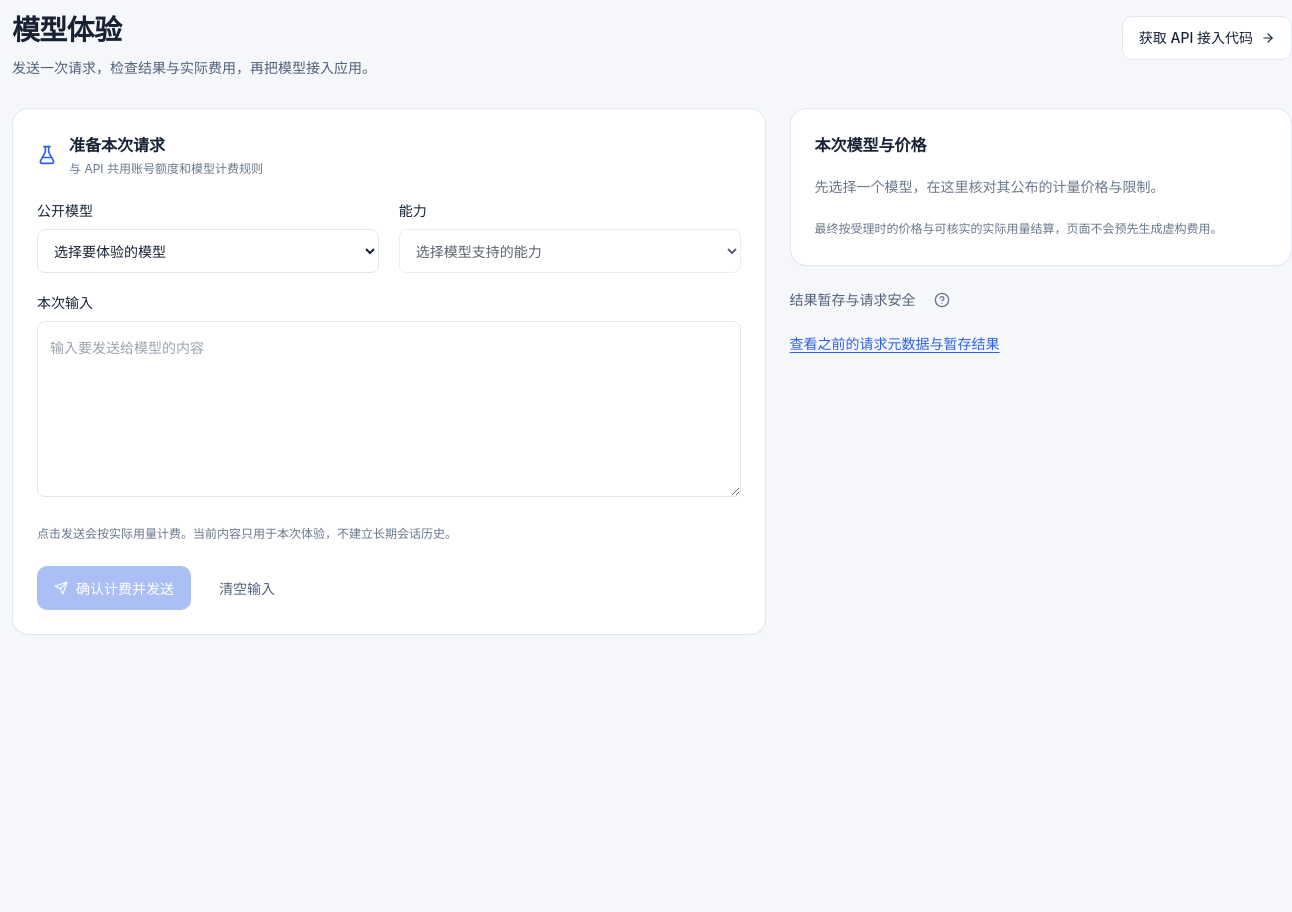
sends the speech text for the selected model
Select "public-model" in the dropdown labelled "公开模型" at x=208, y=251, box [37, 229, 379, 273]
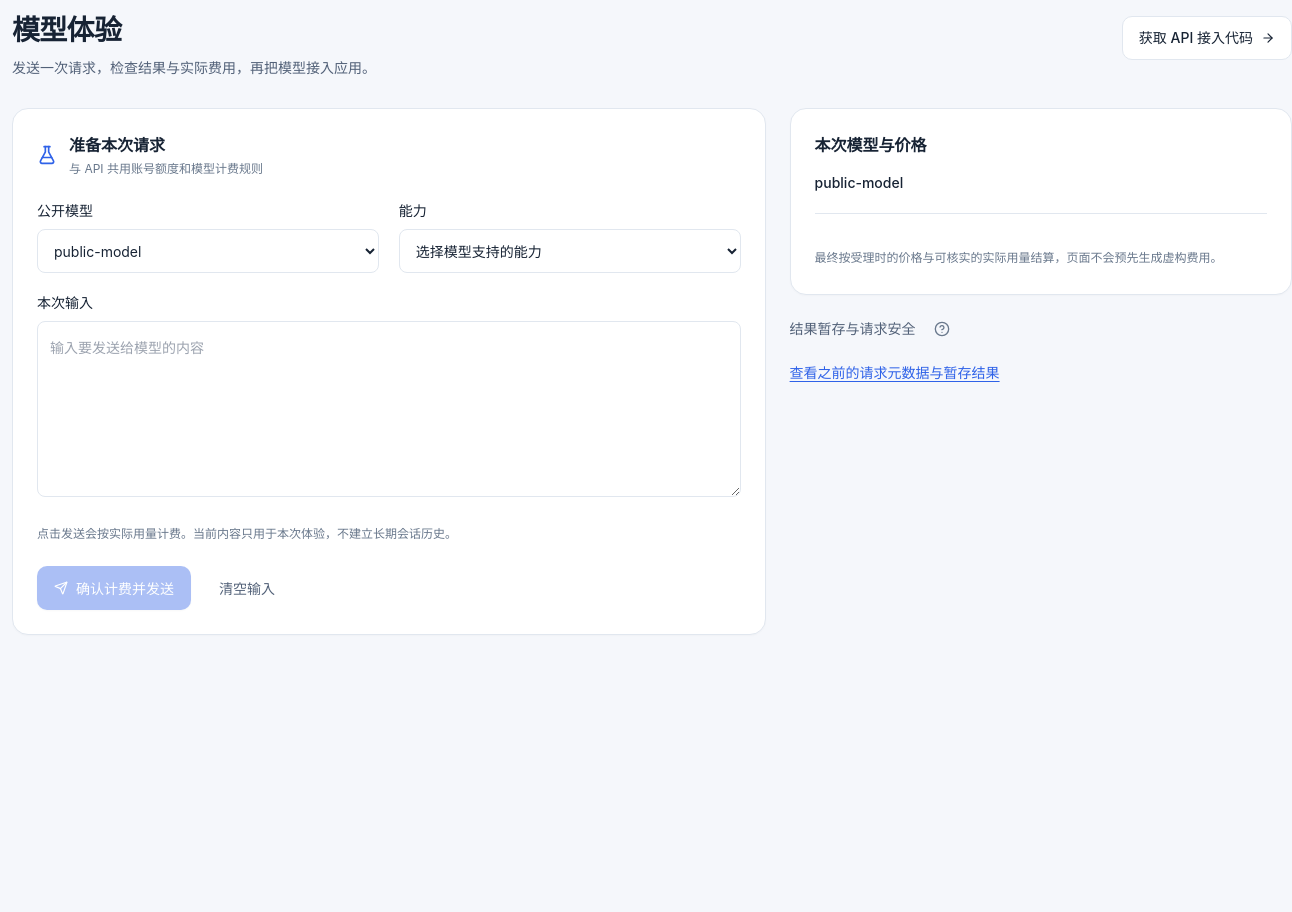
Select "语音合成" in the dropdown labelled "能力" at x=570, y=251, box [399, 229, 741, 273]
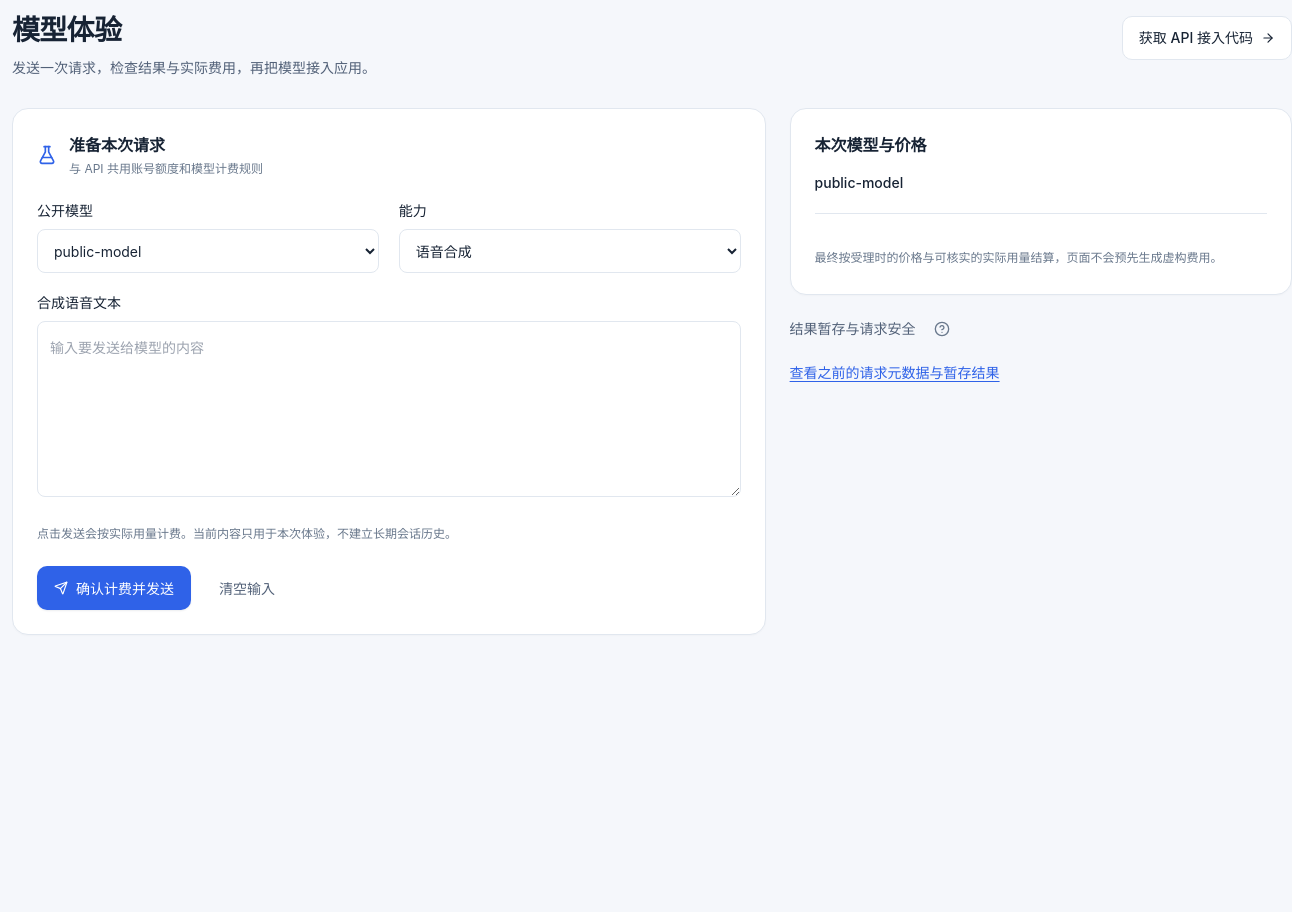
Type "你好" into the text box labelled "合成语音文本" at x=389, y=409, box [37, 321, 741, 497]
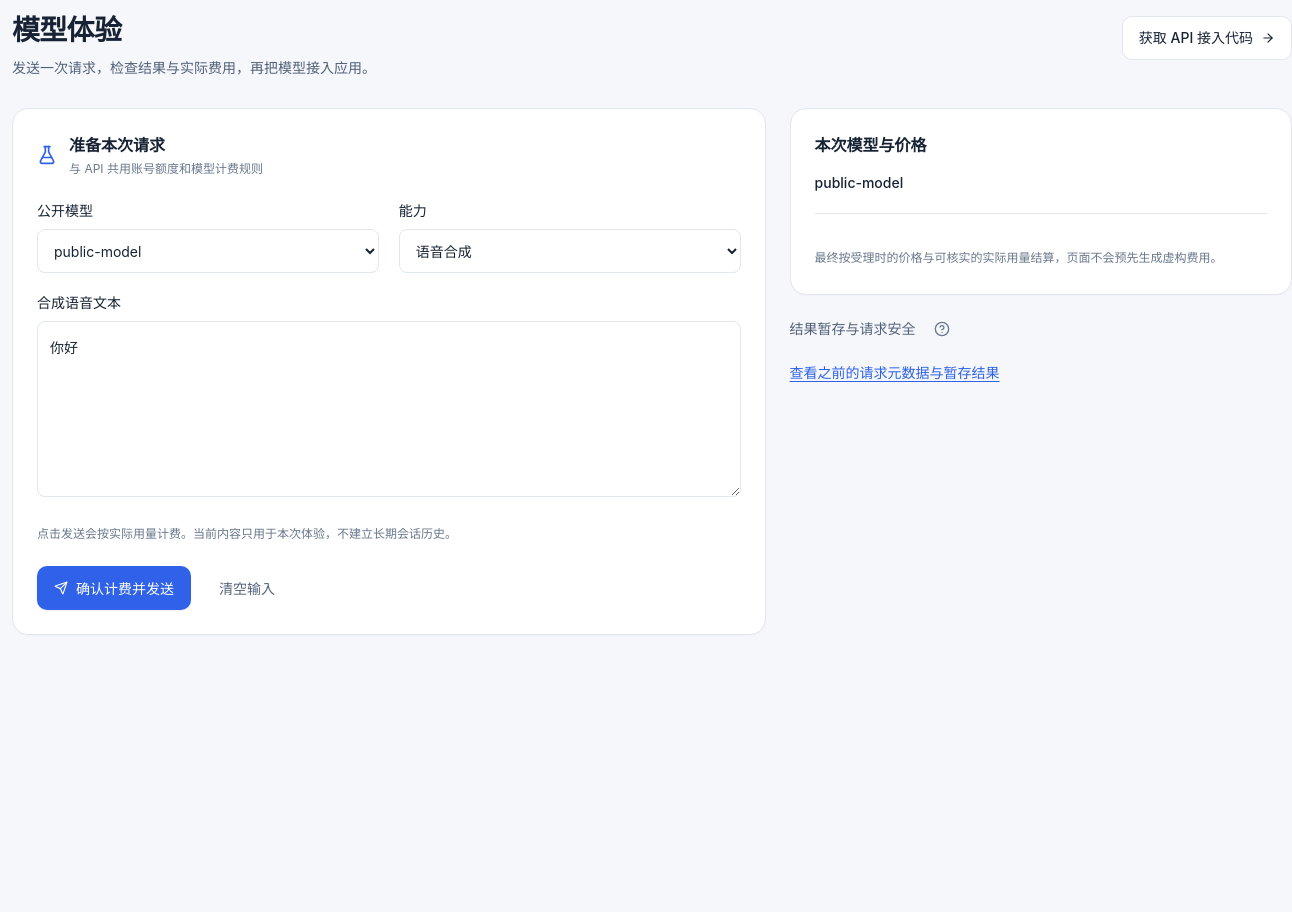
Click the button "确认计费并发送" at x=114, y=588, box [37, 566, 191, 610]
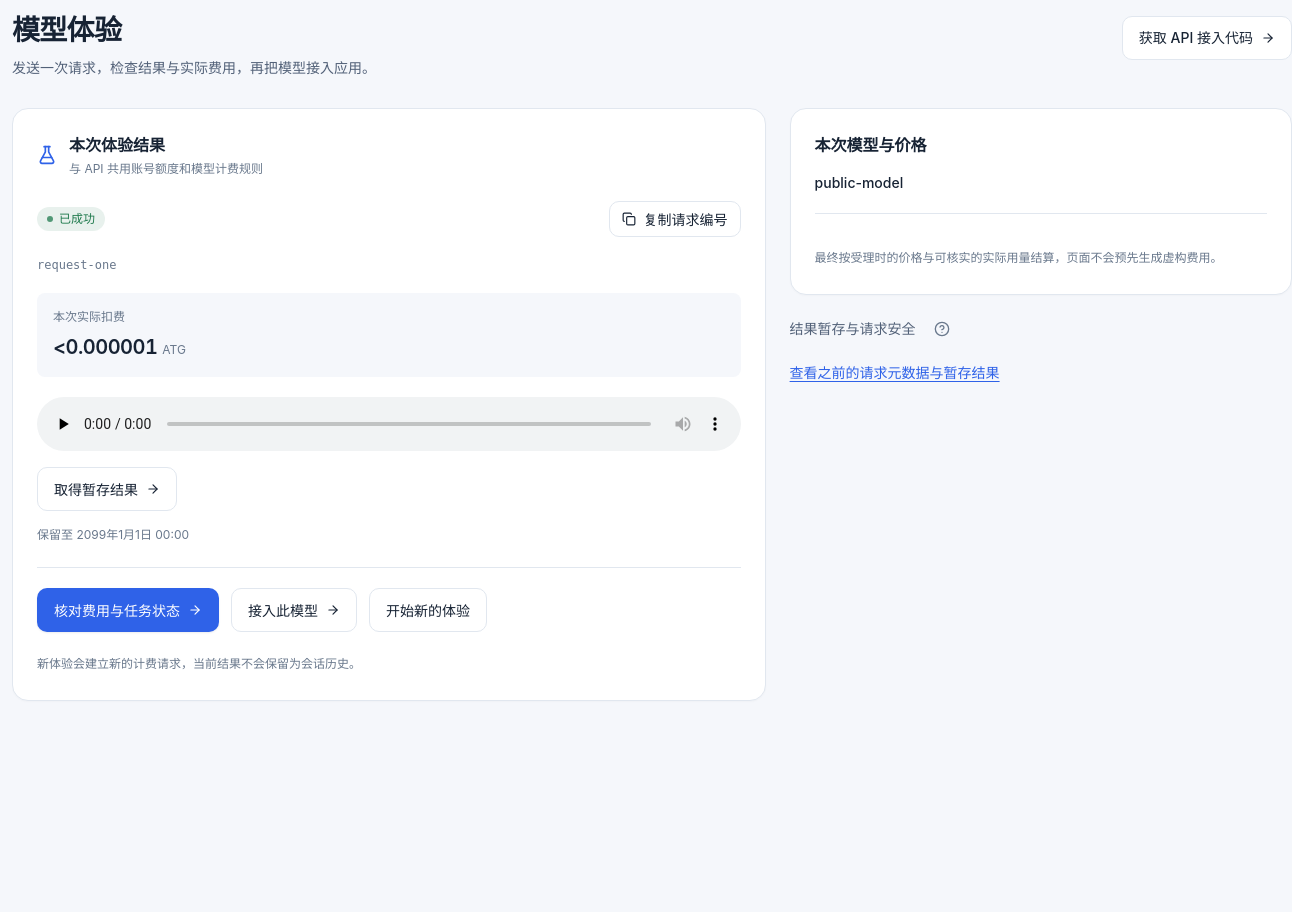
Expected: the heading "本次体验结果" is shown, [69, 135, 165, 155]
